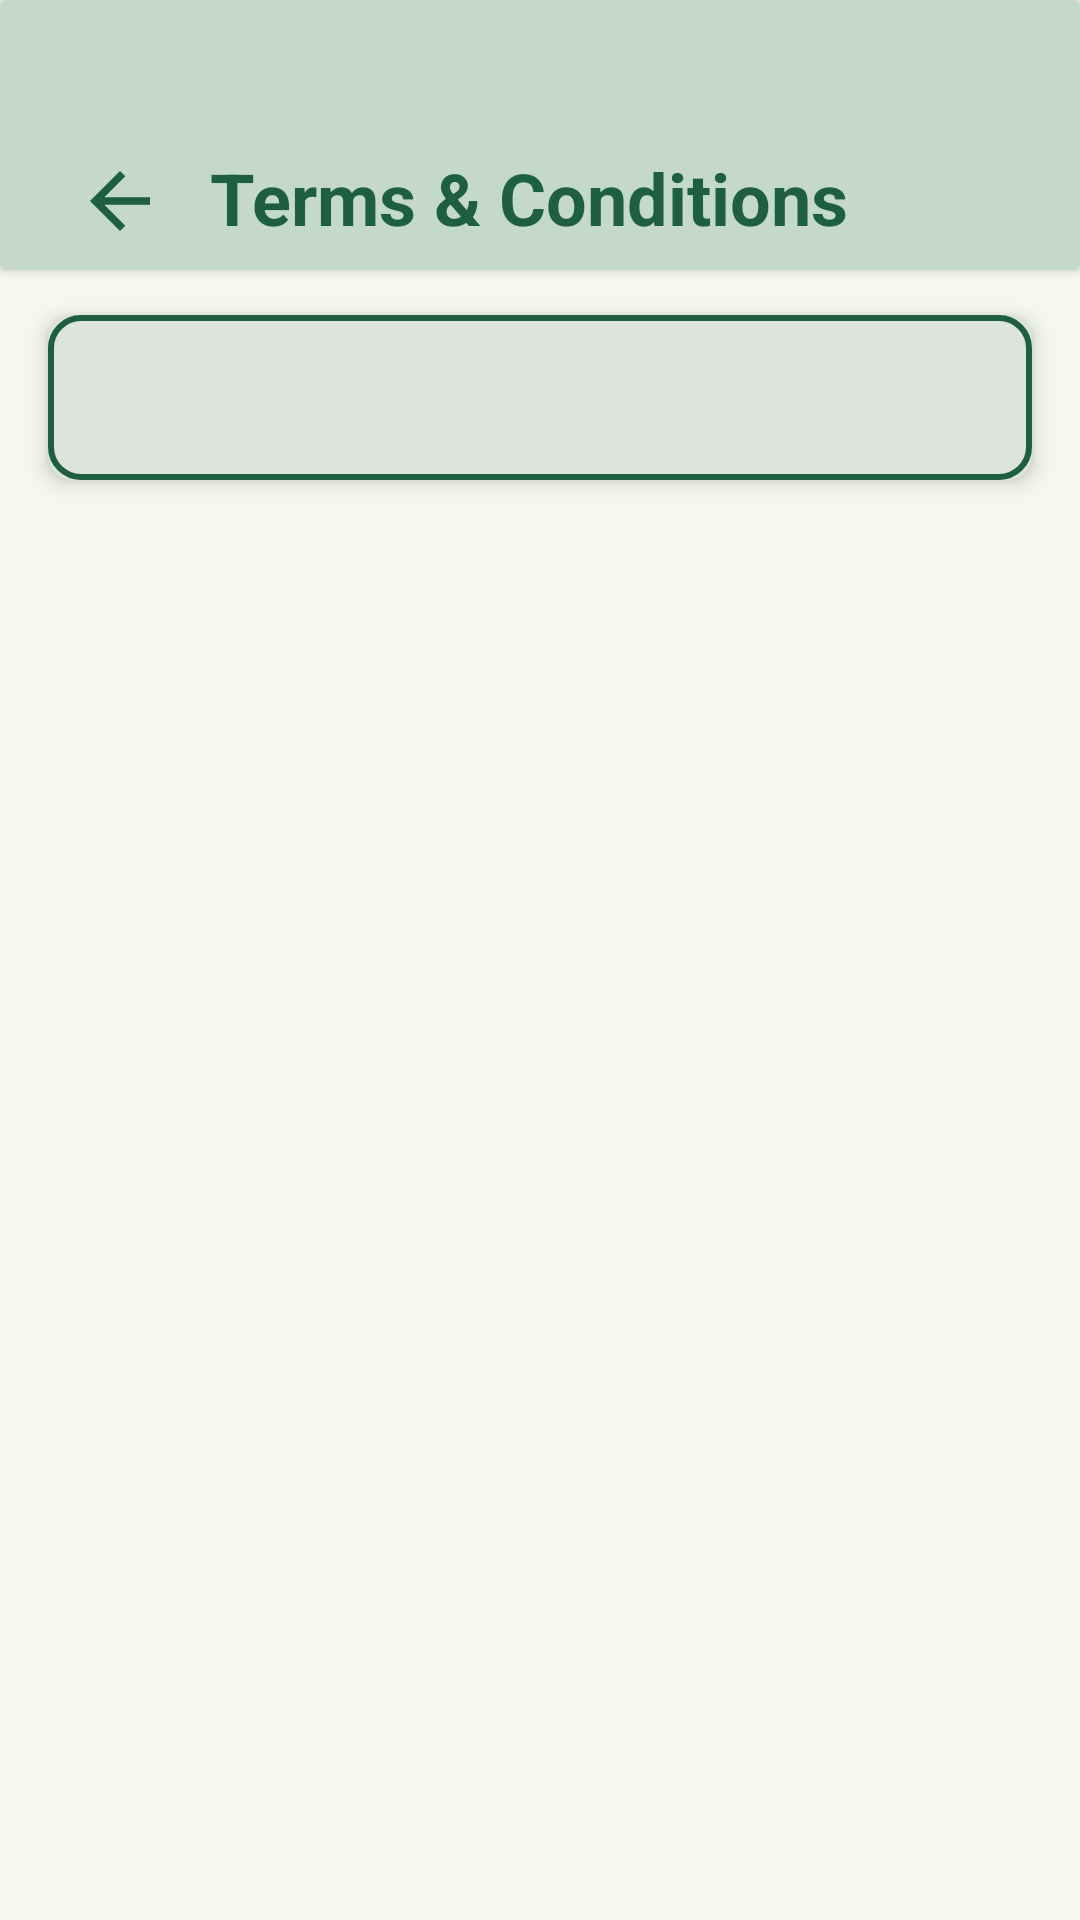

Named icons in this screenshot (1080 × 1920) and their bounding boxes, (x1, y1, x2, y2):
arrow back: (90, 171, 150, 231)
